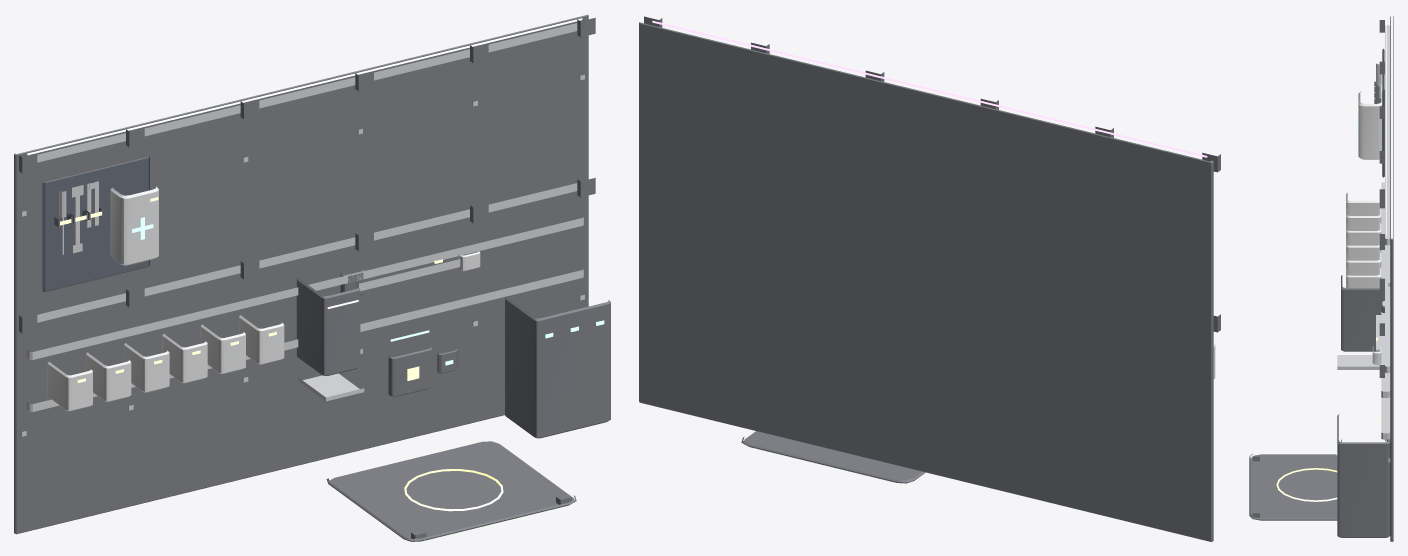
File: iter_03.glb
The picture shows the model from 3 angles, left to right: view 1: azimuth 30°, elevation 25°; view 2: azimuth 150°, elevation 25°; view 3: azimuth 270°, elevation 25°; orthographic projection. The views are drawn at different scales.
Visible parts, largest first — view 1: Wall_Plate, Floor_Pad, Swap_Bay, Shuttle_Bins, Wall_Rail, Kit_Panel, Shuttle_Rail, Shuttle_Carriage, Hook_Clamps, Kit_Box, Charge_Coupler, Accent_Strip (+3 smaller); view 2: Wall_Plate, Floor_Pad, Accent_Strip, Hook_Clamps; view 3: Floor_Pad, Swap_Bay, Shuttle_Bins, Shuttle_Carriage, Wall_Rail, Wall_Plate, Kit_Box, Shuttle_Rail, Hook_Clamps, Shuttle_Drop_Tray, Floor_Pad_Ring, Kit_Panel (+1 smaller).
Part boxes in pixels (x1,y1,x2,y2): Wall_Plate: (14,14,588,534); Floor_Pad: (326,441,576,541); Swap_Bay: (505,296,610,438); Shuttle_Bins: (47,315,284,411); Wall_Rail: (37,23,577,322); Kit_Panel: (42,156,149,291); Shuttle_Rail: (26,217,583,411); Shuttle_Carriage: (296,277,360,375); Hook_Clamps: (19,17,595,333); Kit_Box: (110,186,158,265); Charge_Coupler: (388,347,432,396); Accent_Strip: (27,18,582,155); Wall_Plate: (639,22,1213,541); Floor_Pad: (741,431,925,483); Accent_Strip: (652,20,1207,157); Hook_Clamps: (644,16,1220,332); Floor_Pad: (1249,454,1337,520); Swap_Bay: (1337,414,1390,537); Shuttle_Bins: (1346,193,1381,287); Shuttle_Carriage: (1341,275,1384,351); Wall_Rail: (1385,25,1390,373); Wall_Plate: (1390,16,1393,541); Kit_Box: (1358,91,1382,159); Shuttle_Rail: (1381,182,1390,439); Hook_Clamps: (1379,20,1384,377); Shuttle_Drop_Tray: (1337,355,1381,369); Floor_Pad_Ring: (1276,468,1337,501); Kit_Panel: (1382,48,1384,177).
Bounding box in the file's own units: 3 × 2.01 × 0.82.
